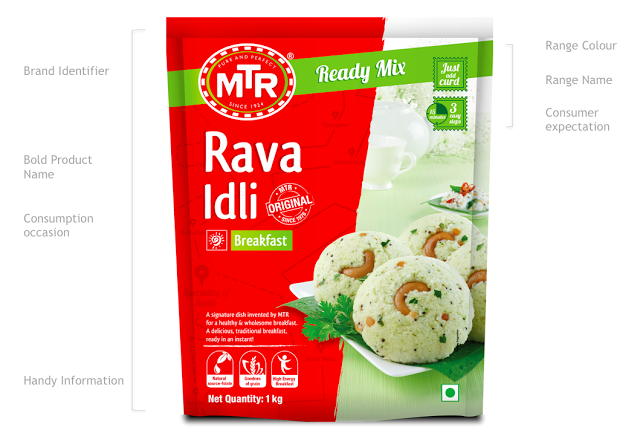VEG: (440, 383, 461, 404)
